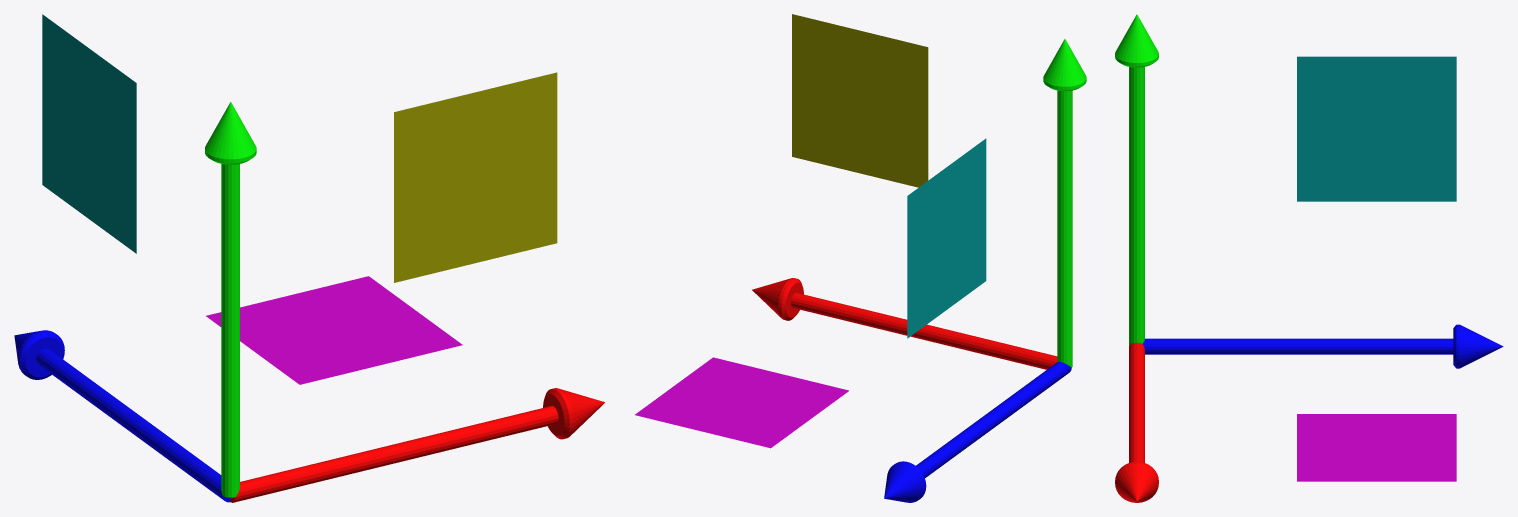
File: gizmos.obj
The picture shows the model from 3 angles, left to right: view 1: azimuth 30°, elevation 25°; view 2: azimuth 150°, elevation 25°; view 3: azimuth 270°, elevation 25°; orthographic projection. The views are drawn at different scales.
Parts seen in each view (by area): view 1: xyManip_Plane, yzManip_Plane.001, xzManip_Plane.002, yAxis_Cone.002, xAxis_Cone.001, zAxis_Cone; view 2: xyManip_Plane, yzManip_Plane.001, xzManip_Plane.002, yAxis_Cone.002, xAxis_Cone.001, zAxis_Cone; view 3: yzManip_Plane.001, xzManip_Plane.002, zAxis_Cone, yAxis_Cone.002, xAxis_Cone.001.
Part boxes in pixels (x1,y1,x2,y2): xyManip_Plane: (394, 72, 557, 282); yzManip_Plane.001: (42, 14, 136, 253); xzManip_Plane.002: (206, 276, 462, 384); yAxis_Cone.002: (205, 102, 256, 497); xAxis_Cone.001: (230, 388, 604, 502); zAxis_Cone: (14, 330, 230, 502); xyManip_Plane: (792, 14, 928, 187); yzManip_Plane.001: (907, 138, 986, 338); xzManip_Plane.002: (635, 357, 848, 448); yAxis_Cone.002: (1043, 39, 1086, 367); xAxis_Cone.001: (752, 278, 1057, 369); zAxis_Cone: (884, 361, 1071, 502); yzManip_Plane.001: (1297, 56, 1456, 201); xzManip_Plane.002: (1297, 414, 1456, 481); zAxis_Cone: (1143, 324, 1503, 368); yAxis_Cone.002: (1115, 14, 1158, 345); xAxis_Cone.001: (1115, 342, 1158, 502).
Size of the model in its own units: 2.43 by 2.43 by 2.43.
